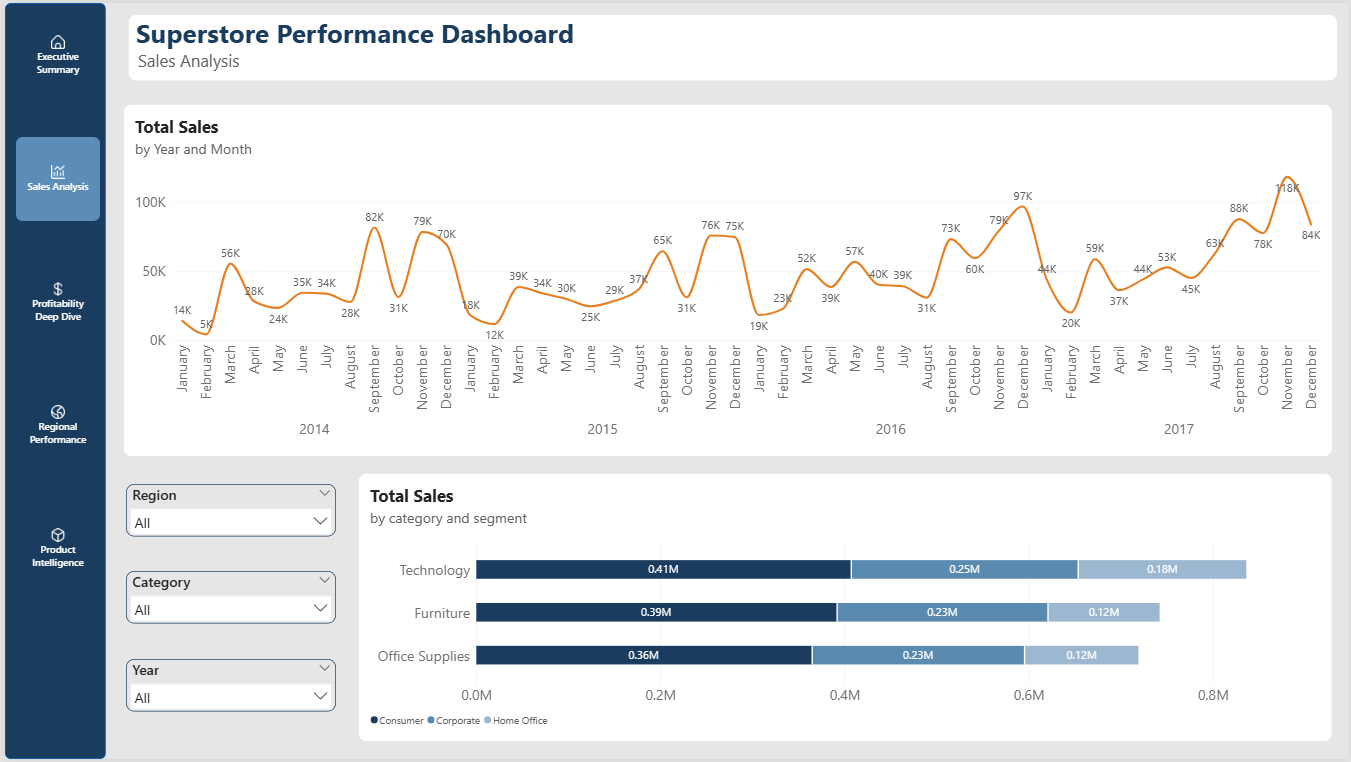

What the dashboard file says about the page in this screenshot:
{"tool":"powerbi","page":{"name":"Sales Analysis","canvas":[1920,1080],"ordinal":1},"visuals":[{"type":"lineChart","fields":{"Category":["dim_date.Year","dim_date.Month"],"Y":["fact_orders.Total Sales"]},"box":[168,144,1728,504],"z":0},{"type":"barChart","fields":{"Category":["fact_orders.category"],"Series":["fact_orders.segment"],"Y":["fact_orders.Total Sales"]},"box":[504,672,1392,384],"z":1000},{"type":"slicer","fields":{"Values":["dim_date.Year"]},"box":[173.5,936.5,300,75],"z":2000},{"type":"slicer","fields":{"Values":["dim_geography.region"]},"box":[173.5,686.5,300,75],"z":3000},{"type":"slicer","fields":{"Values":["fact_orders.category"]},"box":[173.5,811.5,300,75],"z":4000},{"type":"textbox","box":[176,16,1728,96],"z":5000},{"type":"shape","box":[0,0,144,1080],"z":6000},{"type":"actionButton","box":[16,16,120,120],"z":7000},{"type":"actionButton","box":[16,192,120,120],"z":8000},{"type":"actionButton","box":[16,368,120,120],"z":9000},{"type":"actionButton","box":[16,544,120,120],"z":10000},{"type":"actionButton","box":[16,720,120,120],"z":11000}]}

Visuals, with their boxes in screenshot pixels (x1, y1, x2, y2), scaled from the page's 1920x1080 canvas onto the 1351x762 screenshot:
lineChart - dim_date.Year x dim_date.Month: 118:102:1334:457
barChart - fact_orders.category x fact_orders.segment: 355:474:1334:745
slicer - dim_date.Year: 122:661:333:714
slicer - dim_geography.region: 122:484:333:537
slicer - fact_orders.category: 122:573:333:625
textbox: 124:11:1340:79
shape: 0:0:101:761
actionButton: 11:11:96:96
actionButton: 11:135:96:220
actionButton: 11:260:96:344
actionButton: 11:384:96:468
actionButton: 11:508:96:593
